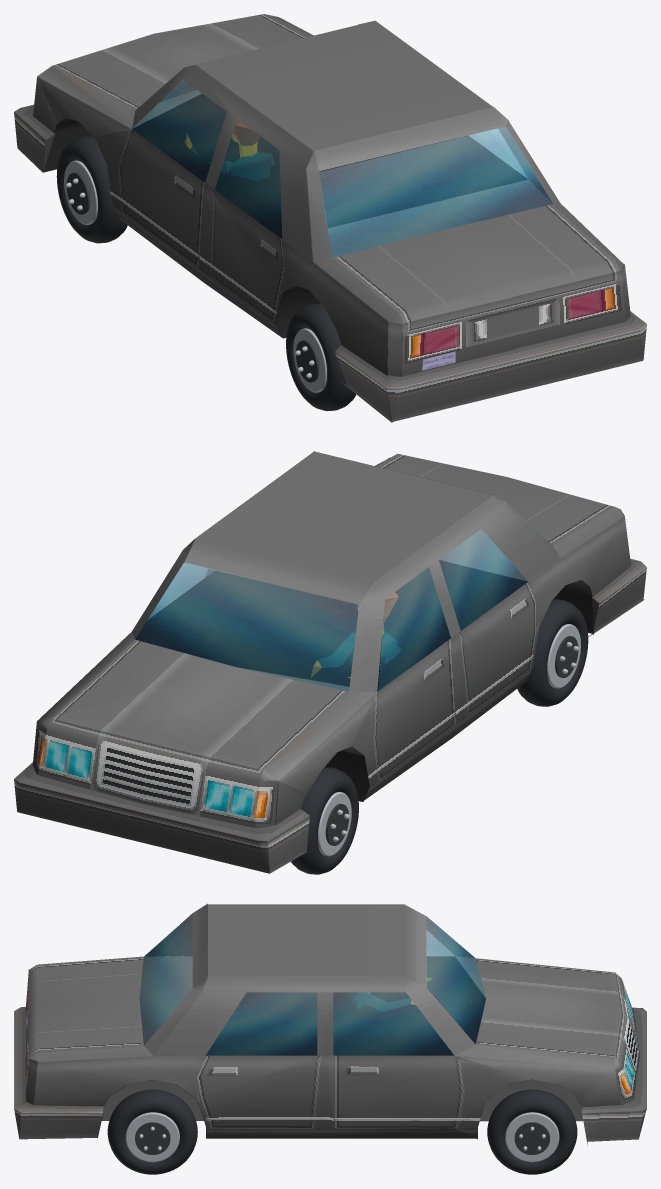
The model's file is car-sedanb.glb.
3 renders of one model, top to bottom at view 1: azimuth 30°, elevation 25°; view 2: azimuth 150°, elevation 25°; view 3: azimuth 270°, elevation 25°, orthographic. The views are drawn at different scales.
Visible parts, largest first — view 1: sedanBShape.001, sedanBShape.002, sedanBShape, Rounded tire.021, Rounded tire.022, Alloy rim.021, Alloy rim.022, Rim recess.042, Rim recess.044; view 2: sedanBShape.001, sedanBShape.002, sedanBShape, Rounded tire.021, Rounded tire.022, Alloy rim.021, Alloy rim.022, Rim recess.044, Rim recess.042; view 3: sedanBShape.001, sedanBShape.002, sedanBShape, Rounded tire.020, Rounded tire.023, Alloy rim.020, Alloy rim.023, Rim recess.041, Rim recess.047.
Boxes of the visible parts, bbox=[...] form: sedanBShape.001: bbox=[14, 14, 646, 422]; sedanBShape.002: bbox=[132, 79, 552, 257]; sedanBShape: bbox=[132, 94, 527, 238]; Rounded tire.021: bbox=[286, 303, 356, 410]; Rounded tire.022: bbox=[56, 136, 127, 243]; Alloy rim.021: bbox=[293, 328, 327, 392]; Alloy rim.022: bbox=[64, 160, 97, 224]; Rim recess.042: bbox=[296, 340, 319, 382]; Rim recess.044: bbox=[66, 172, 89, 214]; sedanBShape.001: bbox=[14, 451, 646, 873]; sedanBShape.002: bbox=[135, 515, 552, 691]; sedanBShape: bbox=[135, 560, 527, 691]; Rounded tire.021: bbox=[517, 599, 588, 706]; Rounded tire.022: bbox=[291, 767, 358, 874]; Alloy rim.021: bbox=[547, 624, 580, 688]; Alloy rim.022: bbox=[318, 792, 351, 856]; Rim recess.044: bbox=[325, 803, 348, 845]; Rim recess.042: bbox=[555, 636, 578, 678]; sedanBShape.001: bbox=[14, 903, 646, 1144]; sedanBShape.002: bbox=[139, 913, 485, 1055]; sedanBShape: bbox=[205, 956, 485, 1055]; Rounded tire.020: bbox=[107, 1089, 197, 1174]; Rounded tire.023: bbox=[487, 1089, 577, 1174]; Alloy rim.020: bbox=[125, 1112, 179, 1162]; Alloy rim.023: bbox=[505, 1112, 559, 1162]; Rim recess.041: bbox=[135, 1122, 170, 1154]; Rim recess.047: bbox=[514, 1122, 549, 1154].
Size of the model in its own units: 2.38 by 1.91 by 5.82.
Materials: 6 (3 with a texture image).
